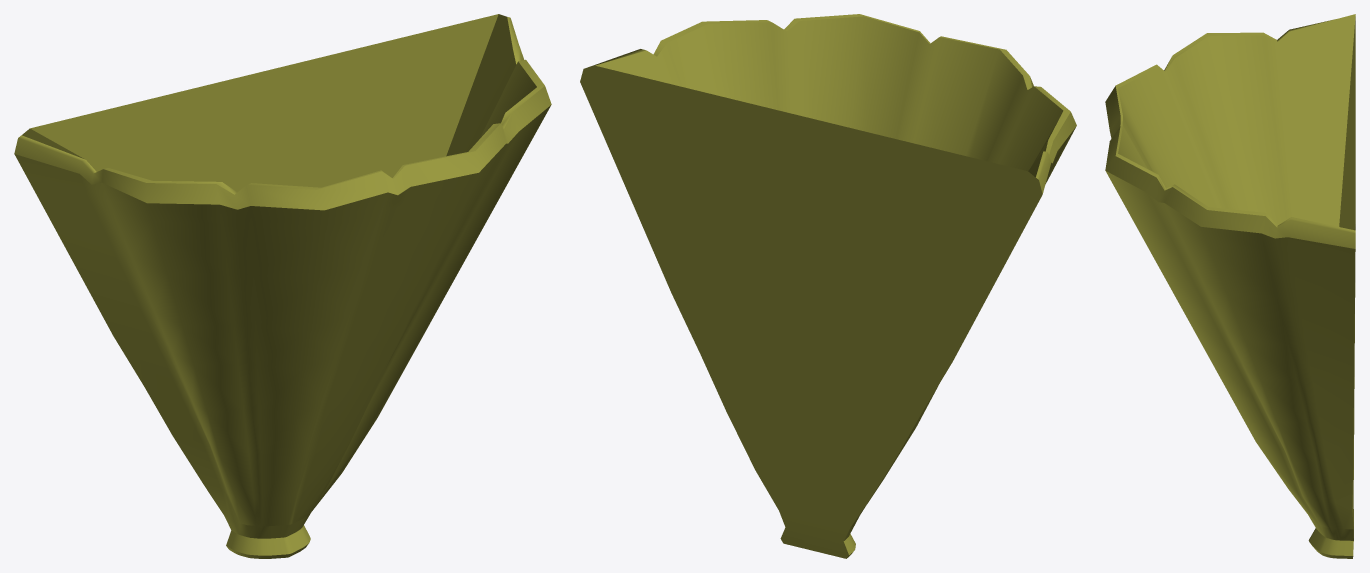
Rendered from Shell Light.fbx.
The picture shows the model from 3 angles, left to right: view 1: azimuth 30°, elevation 25°; view 2: azimuth 150°, elevation 25°; view 3: azimuth 270°, elevation 25°; orthographic projection. The views are drawn at different scales.
Parts seen in each view (by area): view 1: pCone1; view 2: pCone1; view 3: pCone1.
Part boxes in pixels (left/top/right/bottom): pCone1: left=14, top=14, right=551, bottom=558; pCone1: left=580, top=14, right=1076, bottom=558; pCone1: left=1105, top=14, right=1355, bottom=558.
Bounding box in the file's own units: 7.17 × 6.41 × 3.41.
